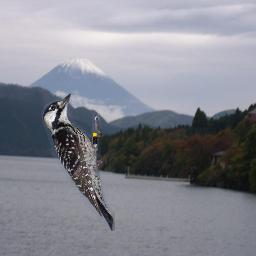Woodpecker: (42, 92, 115, 231)
